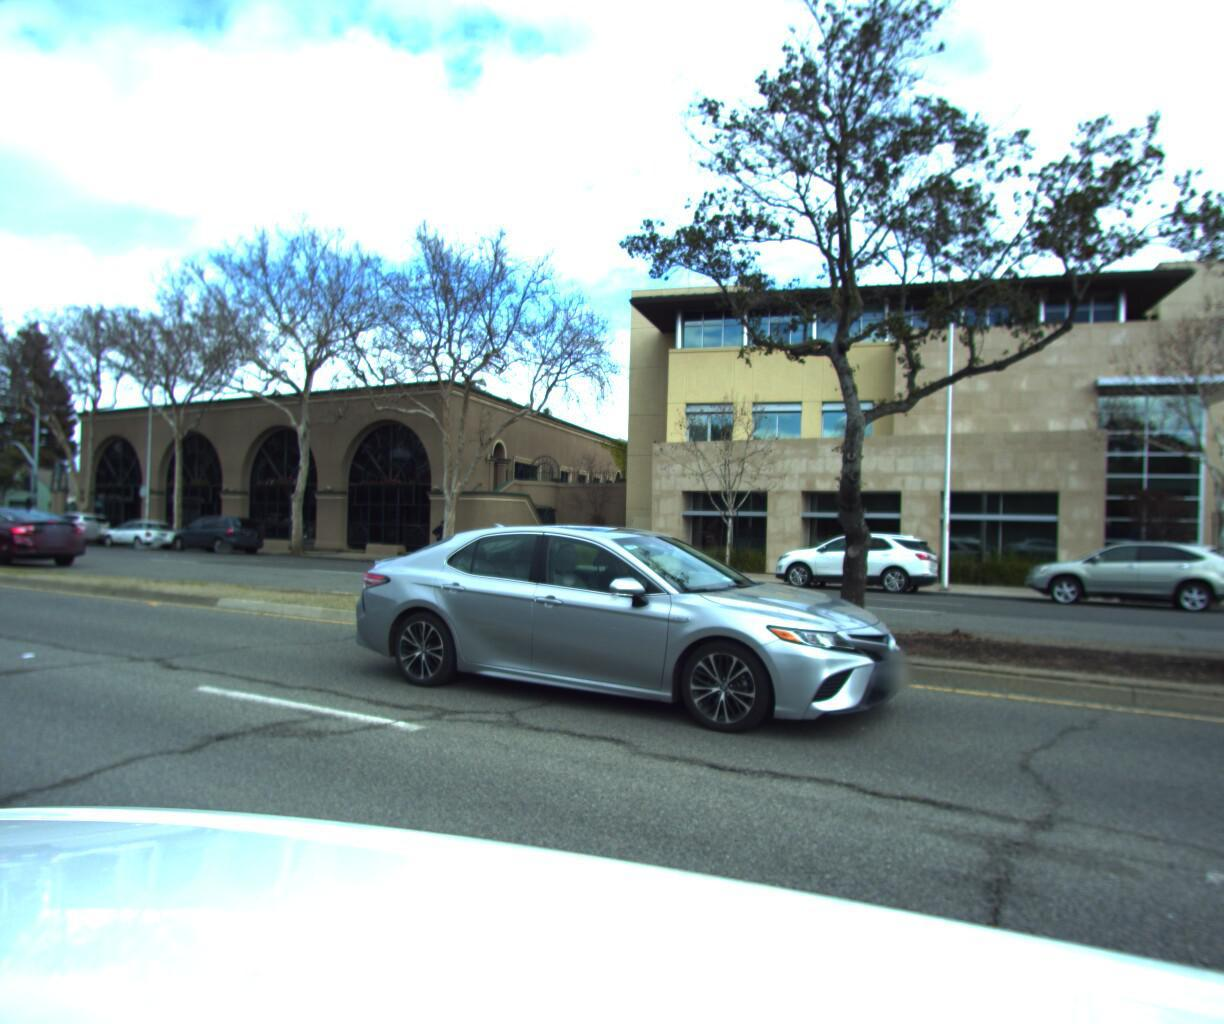car: (336, 514, 913, 752), (1017, 532, 1224, 614), (763, 525, 941, 596), (167, 509, 268, 553), (34, 506, 115, 543), (95, 515, 183, 548)
